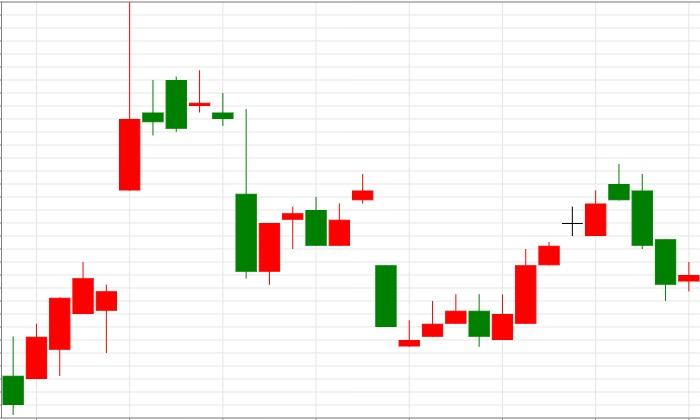evening_star_fall: (492, 164, 653, 340)
